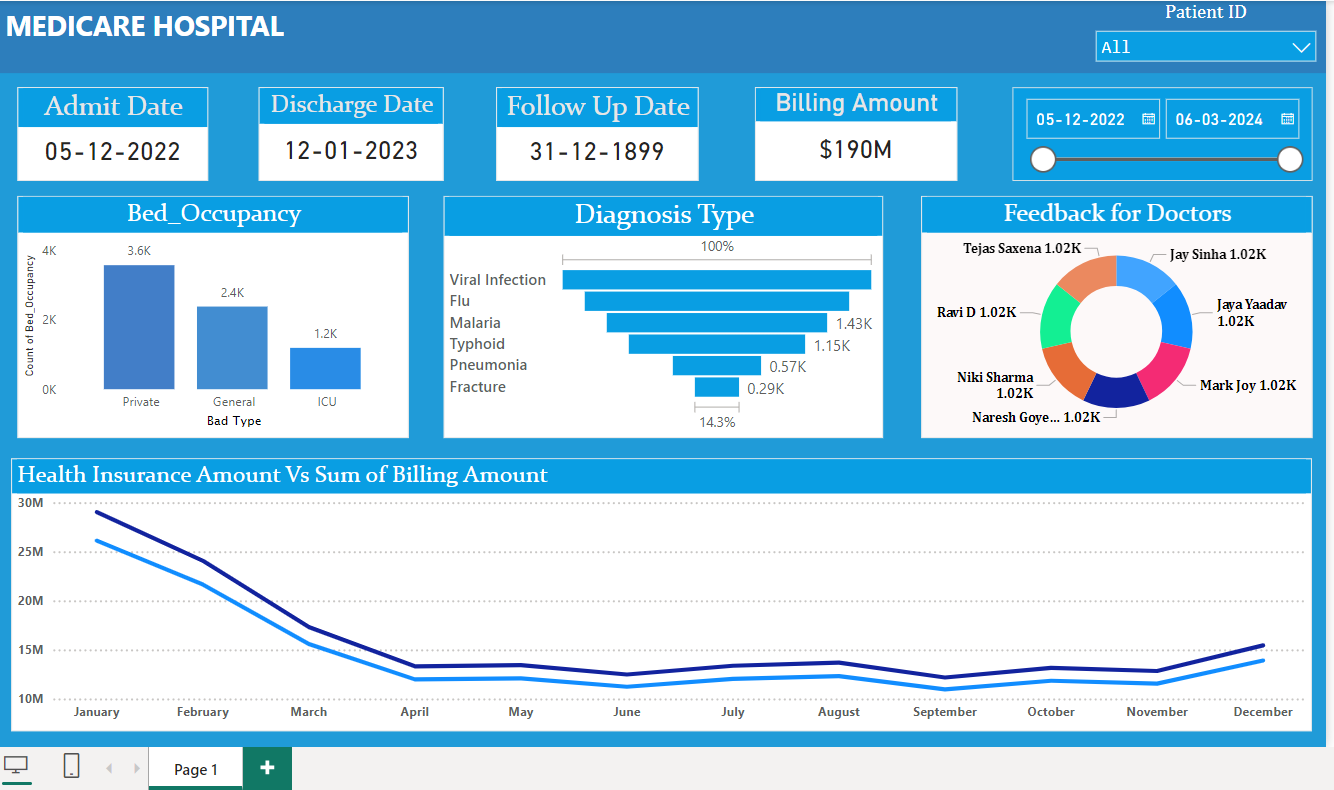

What the dashboard file says about the page in this screenshot:
{"tool":"powerbi","page":{"name":"Page 1","canvas":[1280,720],"ordinal":0},"visuals":[{"type":"textbox","box":[0,0,1047,70],"z":0},{"type":"slicer","title":"Patient ID","fields":{"Values":["Sheet1.Patient_ID"]},"box":[1047,0,233.3,70],"z":1000},{"type":"card","title":"Admit Date","fields":{"Values":["Sheet1.Admit_Date"]},"box":[16.5,83.7,183.9,90.6],"z":2000},{"type":"card","title":"Discharge Date","fields":{"Values":["Sheet1.Discharge_Date"]},"box":[249.7,83.7,178.4,90.6],"z":3000},{"type":"card","title":"Follow Up Date","fields":{"Values":["Sheet1.Followup Date"]},"box":[478.9,83.7,194.9,90.6],"z":4000},{"type":"card","title":"Billing Amount","fields":{"Values":["Sheet1.Billing Amount"]},"box":[728.6,83.7,194.9,90.6],"z":5000},{"type":"slicer","fields":{"Values":["Sheet1.Admit_Date"]},"box":[977,83.7,289.5,90.6],"z":7000},{"type":"columnChart","title":"Bed_Occupancy","fields":{"Category":["Sheet1.Bed_Occupancy"],"Y":["Sheet1.Bed_Occupancy"]},"box":[16.5,188,377.4,233.3],"z":8000},{"type":"donutChart","title":"Feedback  for Doctors","fields":{"Category":["Sheet1.Doctor"],"Y":["Sheet1.Doctor"]},"box":[889.2,188,377.4,233.3],"z":9000},{"type":"funnel","title":" Diagnosis Type","fields":{"Category":["Sheet1.Diagnosis"],"Y":["Sheet1.Diagnosis"]},"box":[428.1,188,424,233.3],"z":10000},{"type":"lineChart","title":"Health Insurance Amount  Vs Sum of Billing Amount ","fields":{"Y":["Sheet1.Health Insurance Amount","Sheet1.Billing Amount"],"Category":["Sheet1.Admit_Date.Variation.Date Hierarchy.Month"]},"box":[11,441.9,1255.6,263.5],"z":11000}]}

Visuals, with their boxes in screenshot pixels (x1, y1, x2, y2):
textbox: detection(3, 0, 1080, 72)
"Patient ID" slicer: detection(1080, 0, 1319, 72)
"Admit Date" card: detection(20, 86, 209, 179)
"Discharge Date" card: detection(260, 86, 443, 179)
"Follow Up Date" card: detection(496, 86, 696, 179)
"Billing Amount" card: detection(752, 86, 953, 179)
slicer - Sheet1.Admit_Date: detection(1008, 86, 1305, 179)
"Bed_Occupancy" columnChart: detection(20, 193, 408, 433)
"Feedback  for Doctors" donutChart: detection(917, 193, 1305, 433)
" Diagnosis Type" funnel: detection(443, 193, 879, 433)
"Health Insurance Amount  Vs Sum of Billing Amount " lineChart: detection(15, 454, 1305, 725)
